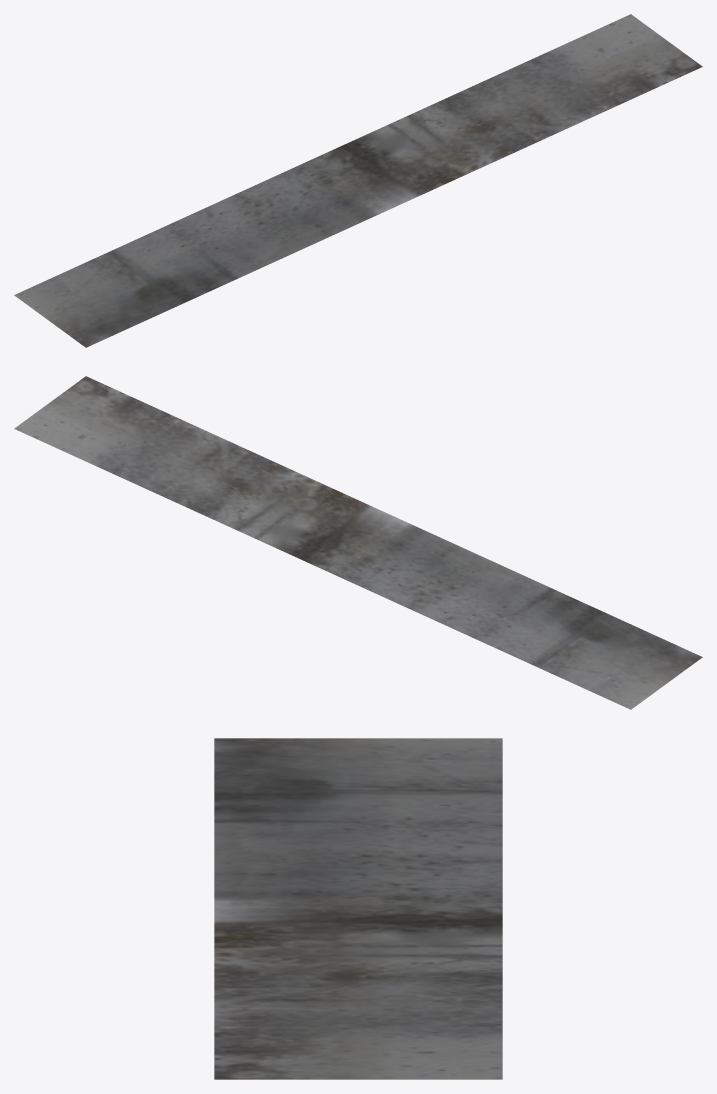
The model's file is tunel_lodni_vrch_0.glb.
3 renders of one model, top to bottom at view 1: azimuth 30°, elevation 25°; view 2: azimuth 150°, elevation 25°; view 3: azimuth 270°, elevation 25°, orthographic. The views are drawn at different scales.
Parts seen in each view (by area): view 1: tunel_lodni_vrch_0; view 2: tunel_lodni_vrch_0; view 3: tunel_lodni_vrch_0.
Boxes of the visible parts, x1=… form: tunel_lodni_vrch_0: x1=14, y1=14, x2=702, y2=347; tunel_lodni_vrch_0: x1=14, y1=376, x2=702, y2=709; tunel_lodni_vrch_0: x1=214, y1=738, x2=502, y2=1079.
Size of the model in its own units: 4.95 by 1 by 1.
1 material, 1 textured.
